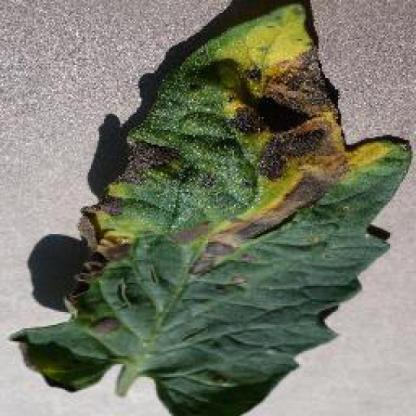Strawberry_Angular_LeafSpot: (228, 61, 355, 176), (195, 204, 293, 267), (67, 225, 128, 301), (118, 138, 182, 186)
